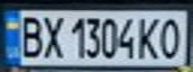0: (100, 15, 121, 60)
1: (66, 14, 84, 58)
3: (81, 13, 103, 60)
4: (115, 15, 139, 60)
B: (15, 12, 45, 60)
K: (136, 13, 163, 60)
O: (157, 15, 187, 60)
X: (39, 12, 66, 61)
